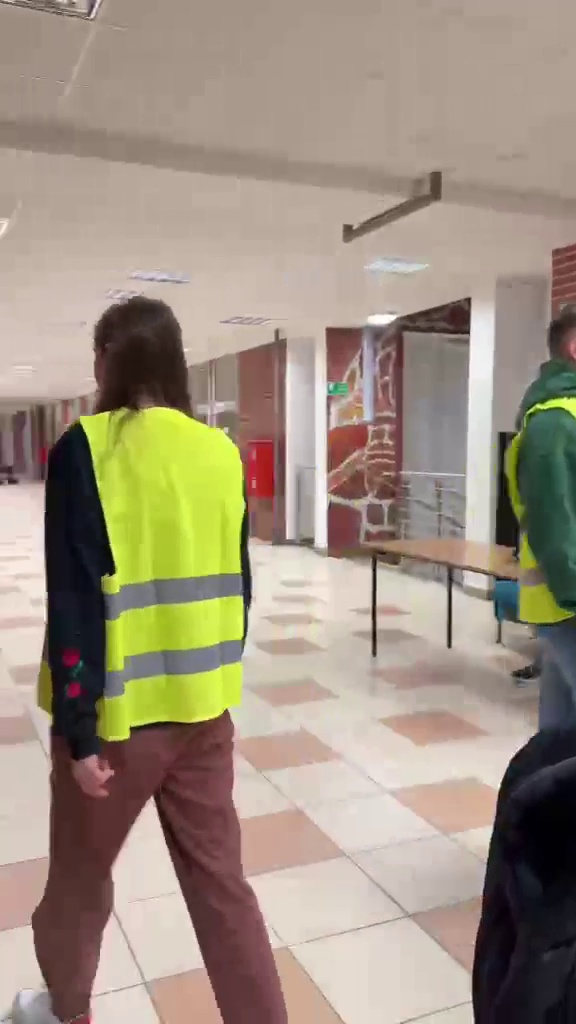vest: (24, 288, 293, 1007), (505, 283, 576, 734)
